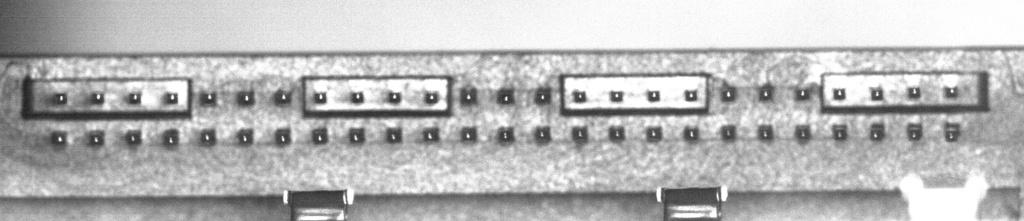pin_ok: (460, 86, 478, 104), (944, 123, 961, 142), (273, 88, 292, 105), (237, 89, 256, 106), (497, 87, 515, 104), (162, 128, 179, 145), (831, 123, 848, 140), (757, 124, 774, 141), (720, 85, 737, 102), (534, 87, 551, 104), (571, 125, 588, 142), (907, 123, 923, 141), (50, 130, 68, 146), (869, 123, 885, 141), (199, 90, 217, 106), (385, 127, 402, 143), (795, 124, 811, 141), (758, 84, 774, 101), (497, 126, 514, 142), (274, 128, 291, 144), (460, 126, 477, 142), (87, 130, 104, 146), (236, 128, 253, 144), (311, 128, 328, 144), (199, 128, 216, 144), (535, 126, 551, 142), (349, 127, 365, 143), (645, 126, 662, 141), (795, 86, 812, 101), (422, 127, 439, 142), (609, 125, 625, 140), (721, 124, 736, 140), (125, 129, 141, 144), (684, 126, 699, 141), (571, 89, 587, 103), (684, 88, 699, 102), (424, 90, 439, 104), (870, 86, 884, 101), (907, 85, 921, 99), (943, 85, 958, 98), (646, 89, 661, 102), (350, 90, 364, 103), (165, 91, 179, 104), (127, 91, 141, 104), (832, 87, 846, 100), (90, 91, 104, 104), (609, 90, 624, 102), (314, 90, 327, 103), (388, 90, 401, 103), (53, 92, 67, 104)
